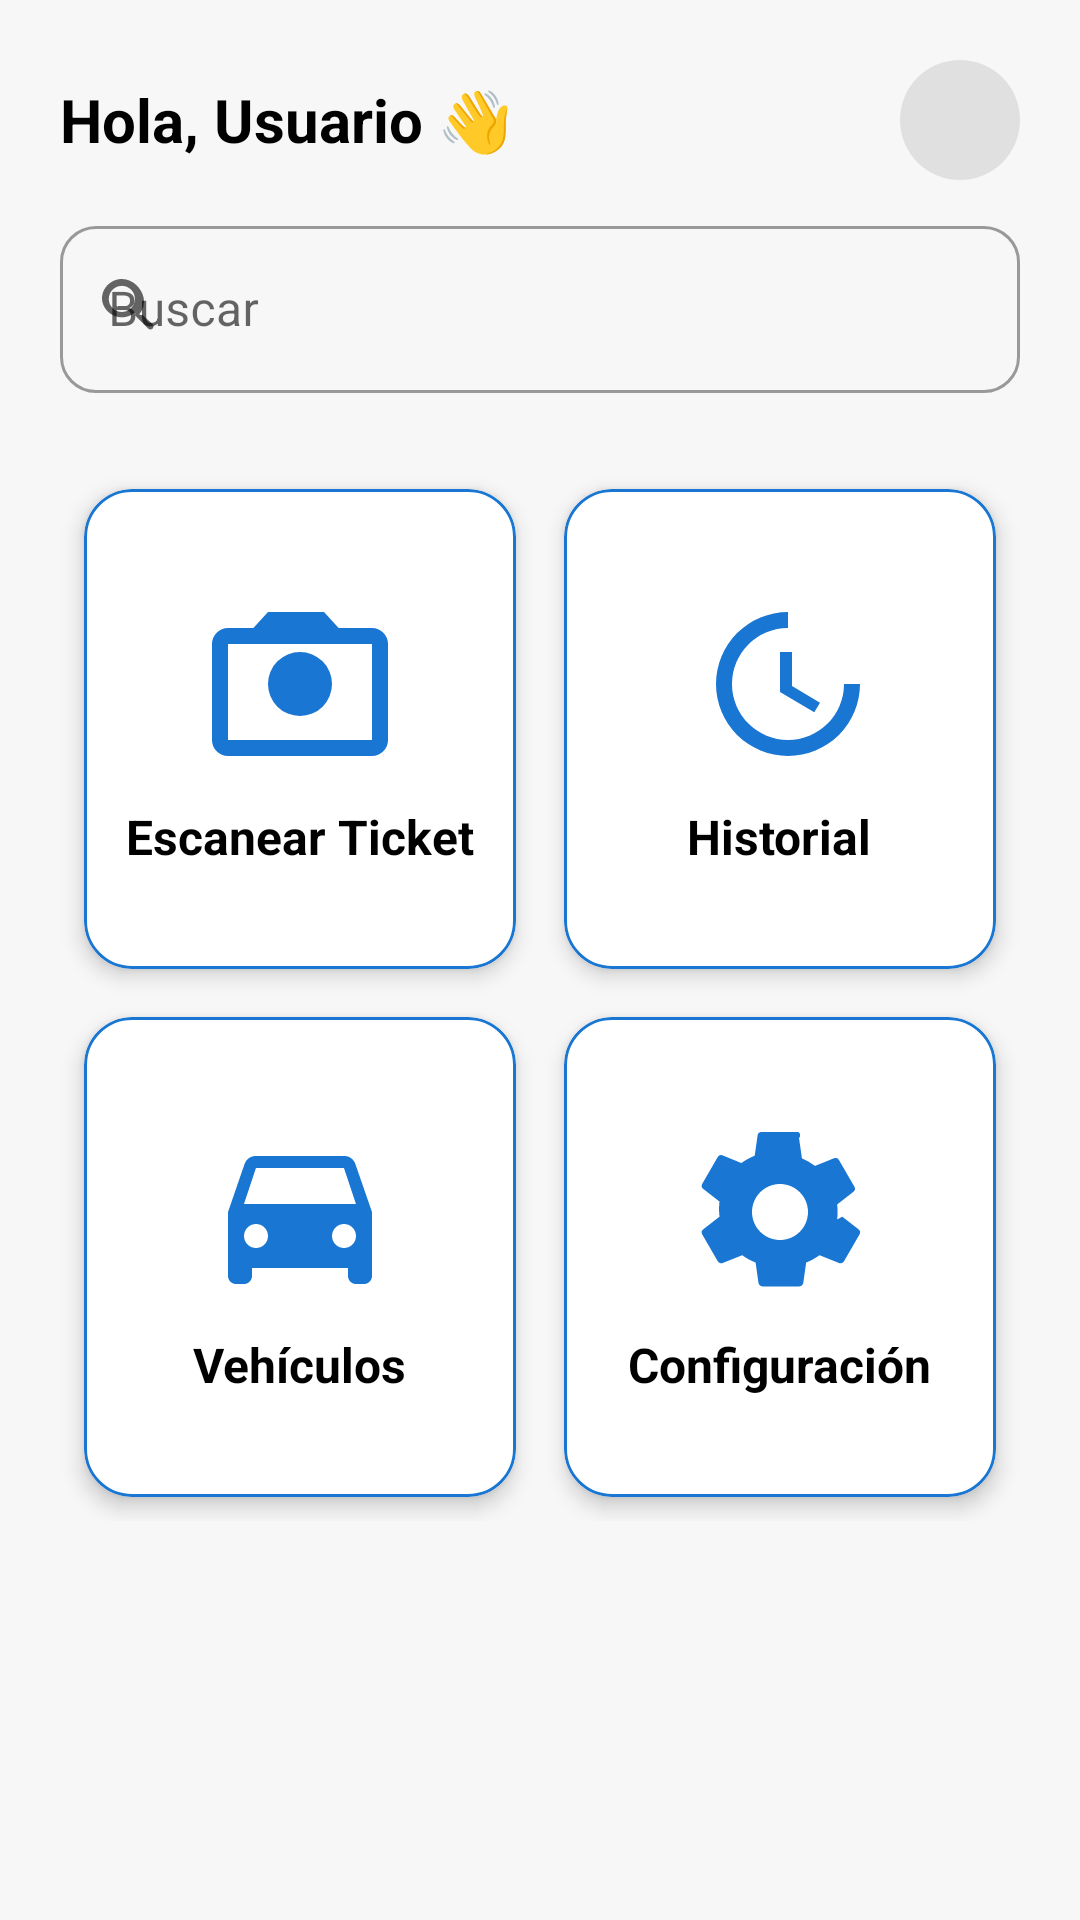

Named icons in this screenshot (1080×1920) and their bounding boxes, (x1, y1, x2, y2):
camera: (212, 612, 388, 756)
car: (228, 1156, 372, 1284)
history: (716, 612, 860, 756)
settings: (701, 1132, 860, 1287)
